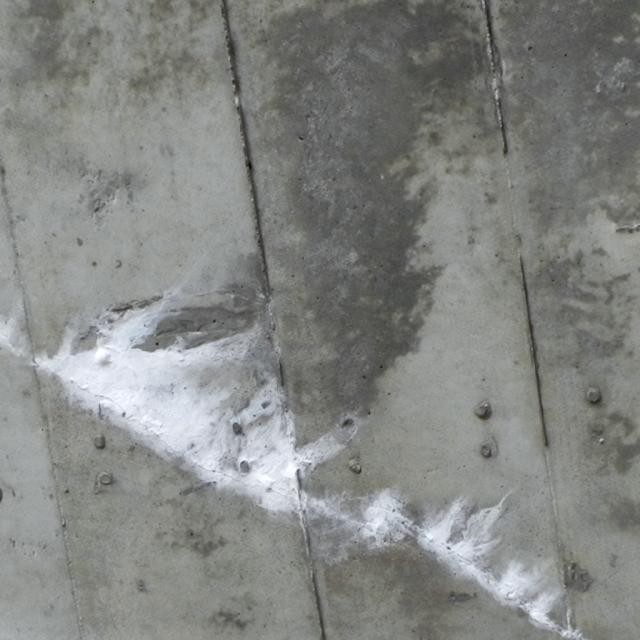D01: (34, 298, 345, 517)
